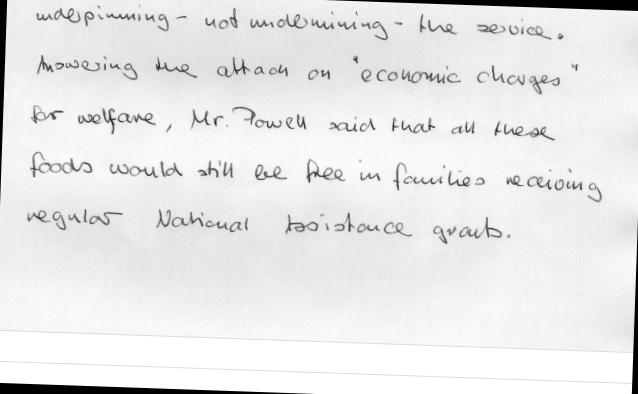text: (26, 146, 603, 204), (33, 40, 580, 100), (27, 96, 560, 154), (32, 0, 564, 51), (21, 198, 514, 249)
